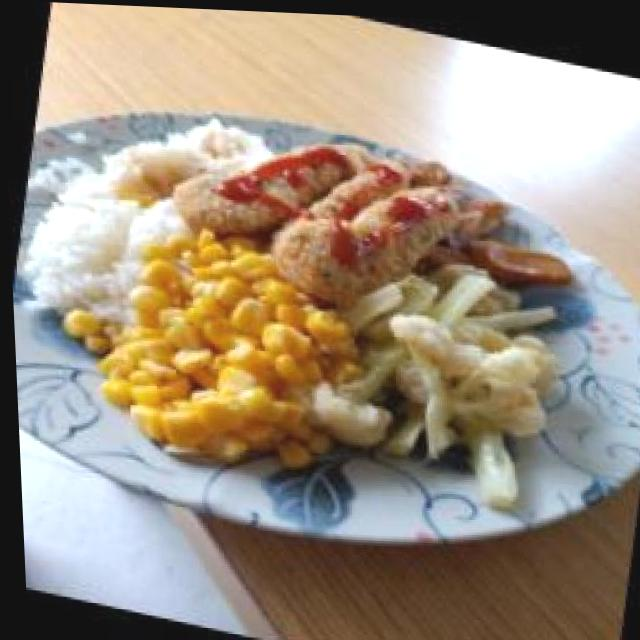rice: (5, 152, 183, 321)
